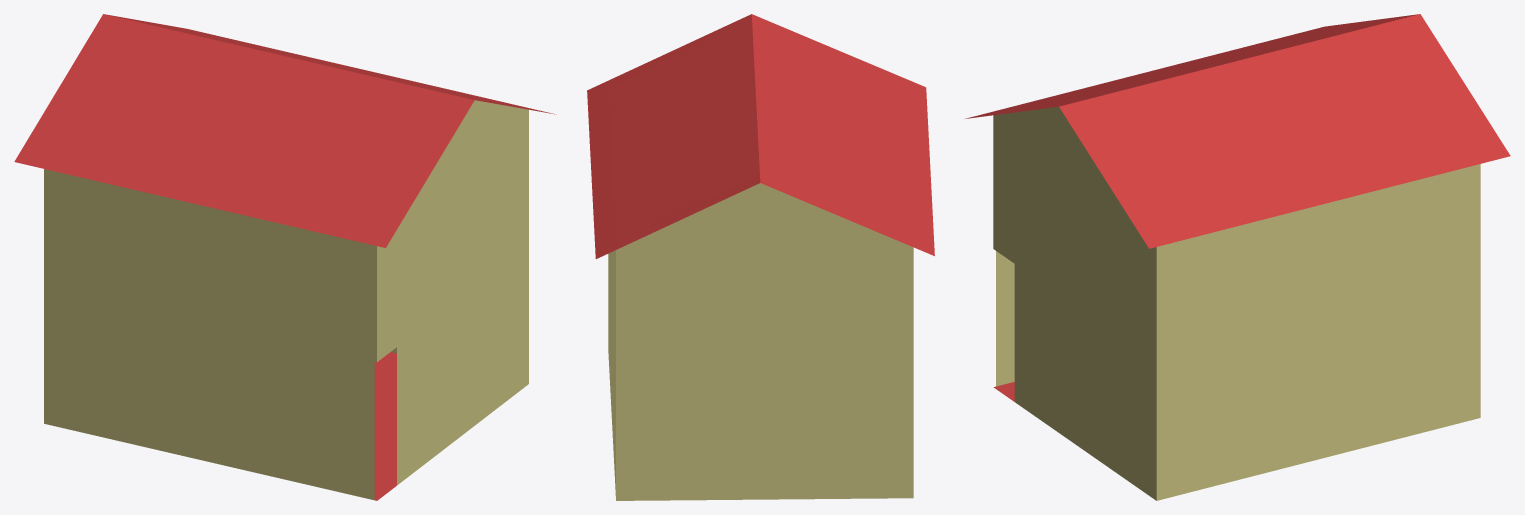
3 views of the same model, side by side, from view 1: azimuth 30°, elevation 25°; view 2: azimuth 150°, elevation 25°; view 3: azimuth 270°, elevation 25° (orthographic). The views are drawn at different scales.
Size of the model in its own units: 17.96 by 18.7 by 12.97.
